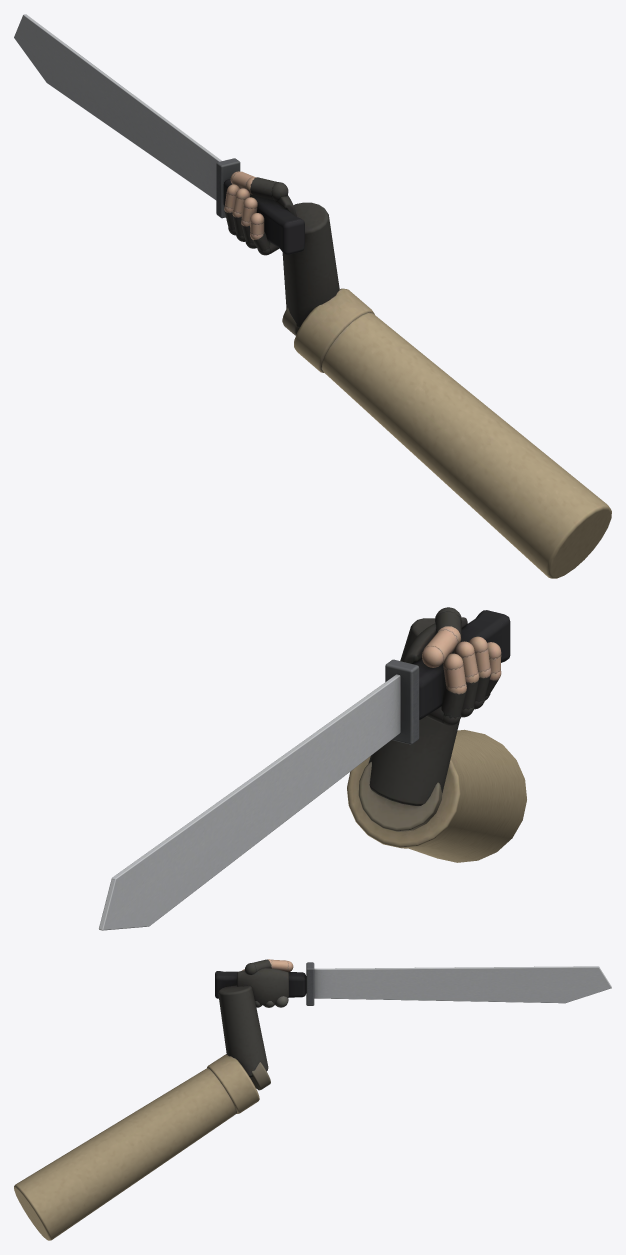
The model's file is machete.glb.
3 views of the same model, one above another, from view 1: azimuth 30°, elevation 25°; view 2: azimuth 150°, elevation 25°; view 3: azimuth 270°, elevation 25° (orthographic). The views are drawn at different scales.
Parts seen in each view (by area): view 1: hænder, machete; view 2: hænder, machete; view 3: hænder, machete.
Boxes of the visible parts, x1,y1,x2,y2 form: hænder: [224, 171, 611, 578]; machete: [14, 14, 304, 254]; hænder: [347, 607, 526, 862]; machete: [99, 610, 510, 930]; hænder: [14, 959, 293, 1240]; machete: [215, 962, 611, 1005].
Size of the model in its own units: 0.2645 by 0.3737 by 0.8954.
2 materials, 2 textured.
